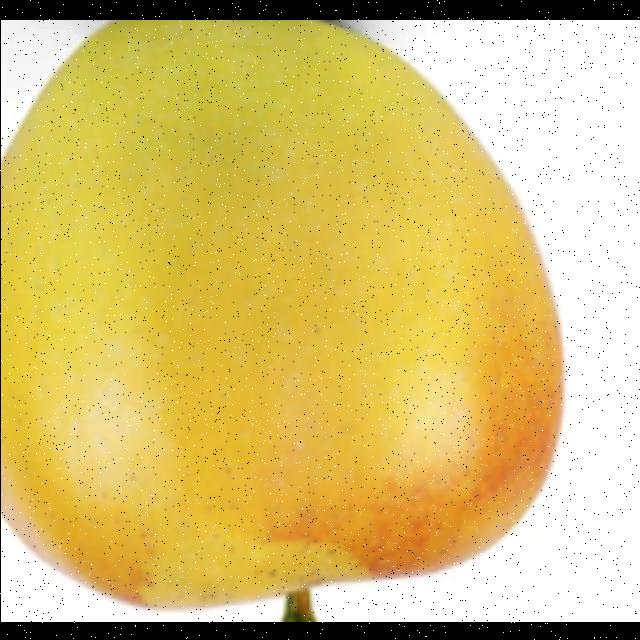Apel Segar: (0, 19, 564, 618)
